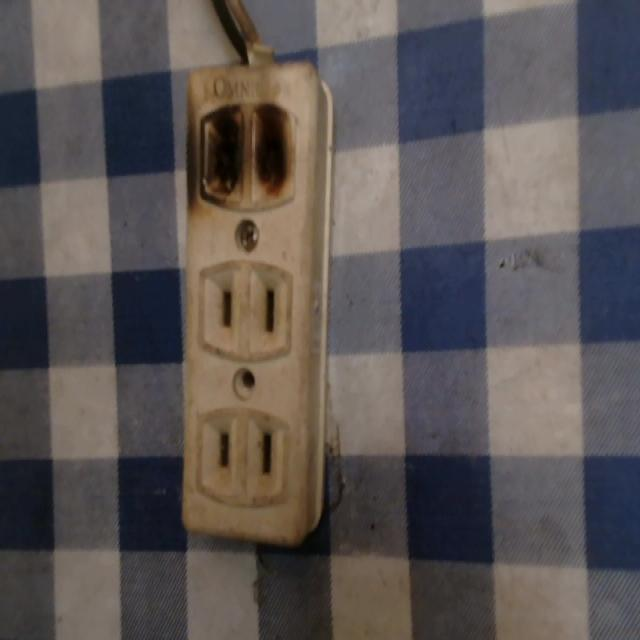-: (188, 100, 304, 199)
